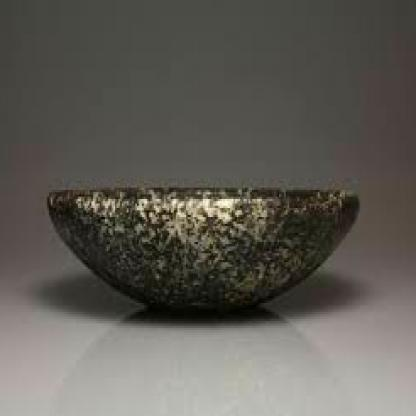Igneous_Diorite: (42, 179, 360, 314)
